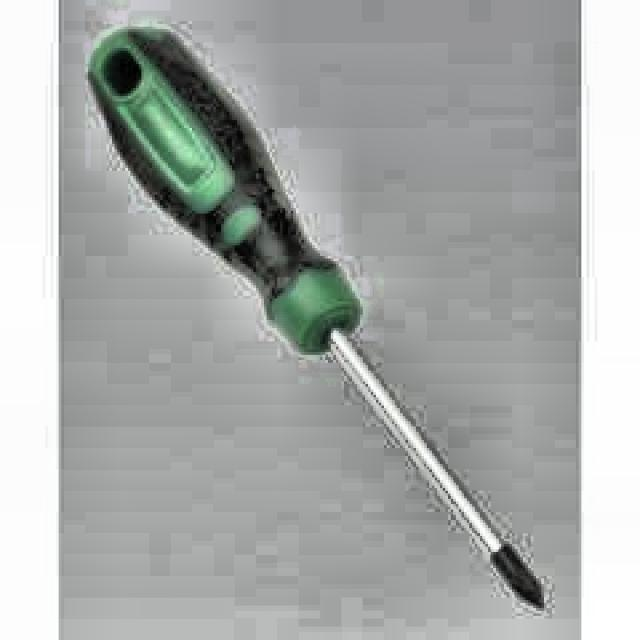screwdriver: (86, 29, 544, 608)
